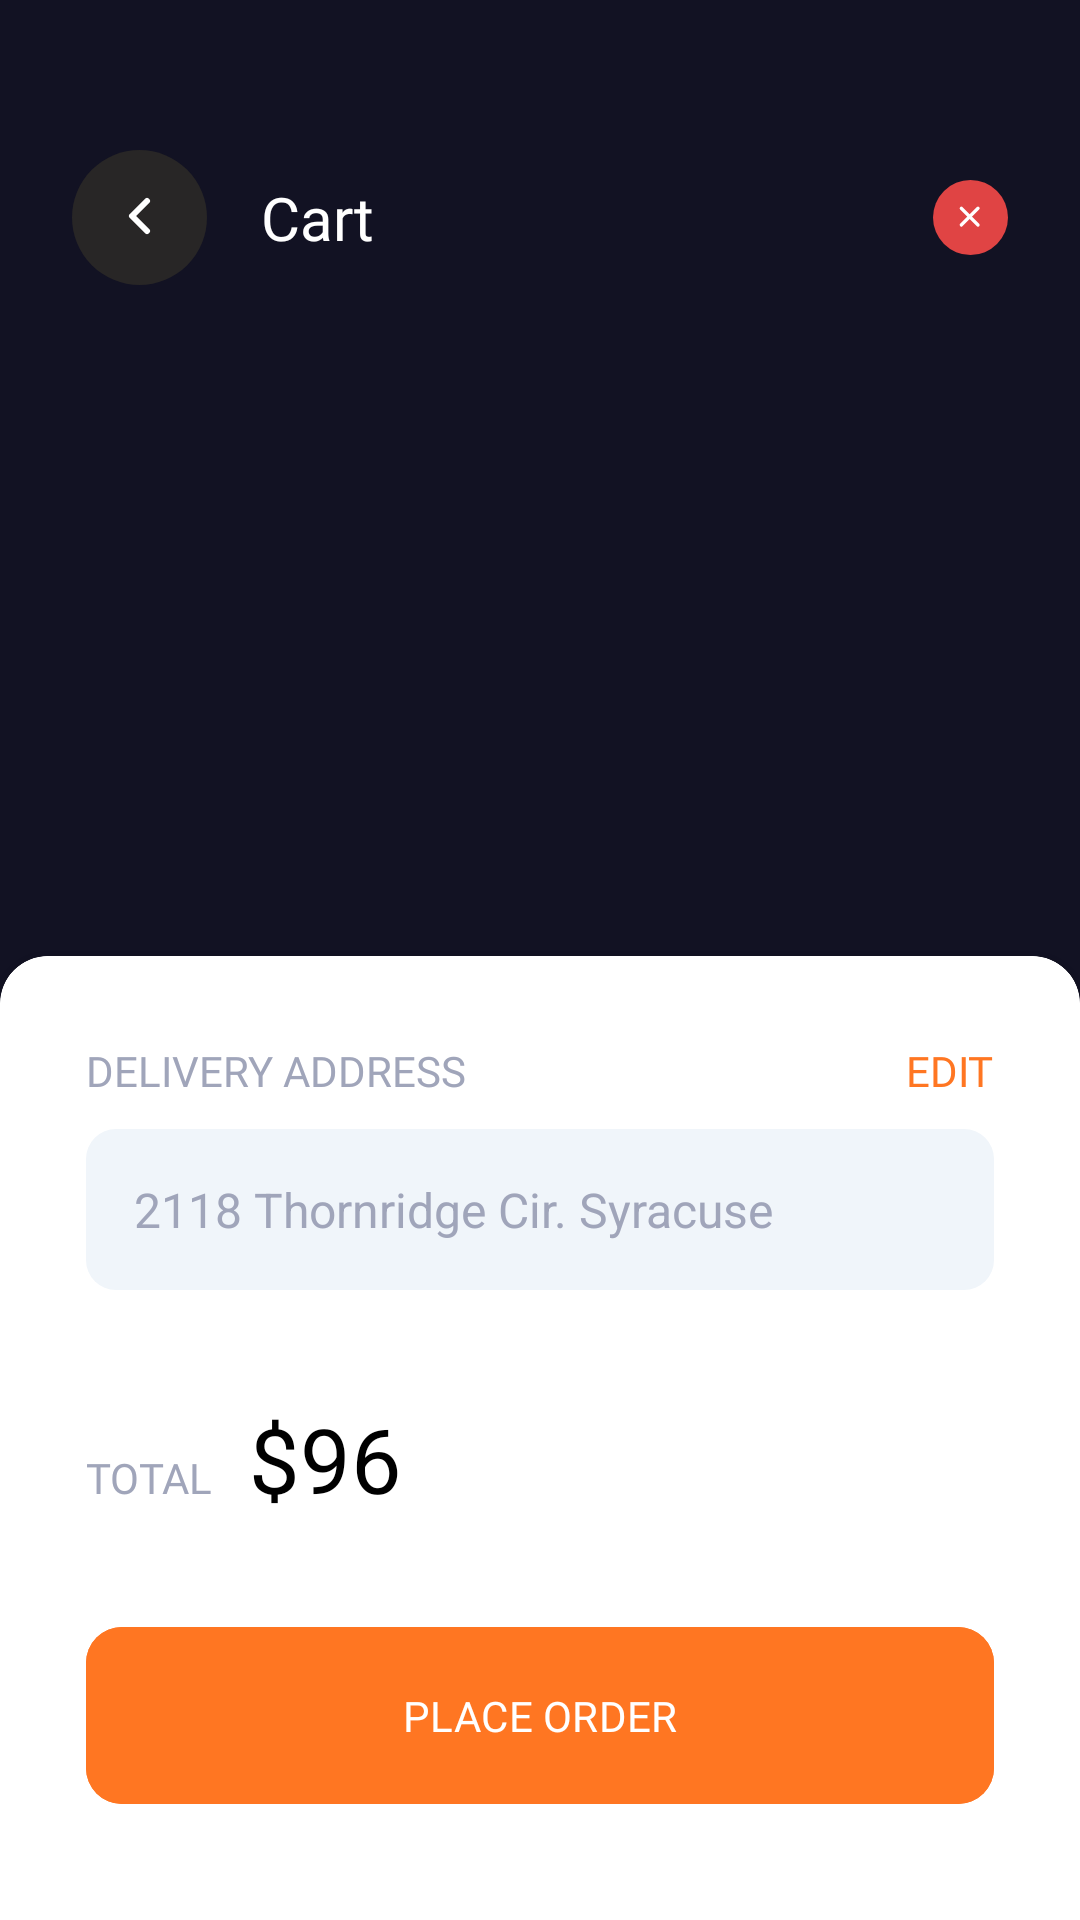

Where icons sit on this 1080 × 1920 app screen, as (x1, y1, x2, y2):
back arrow: (72, 150, 207, 285)
